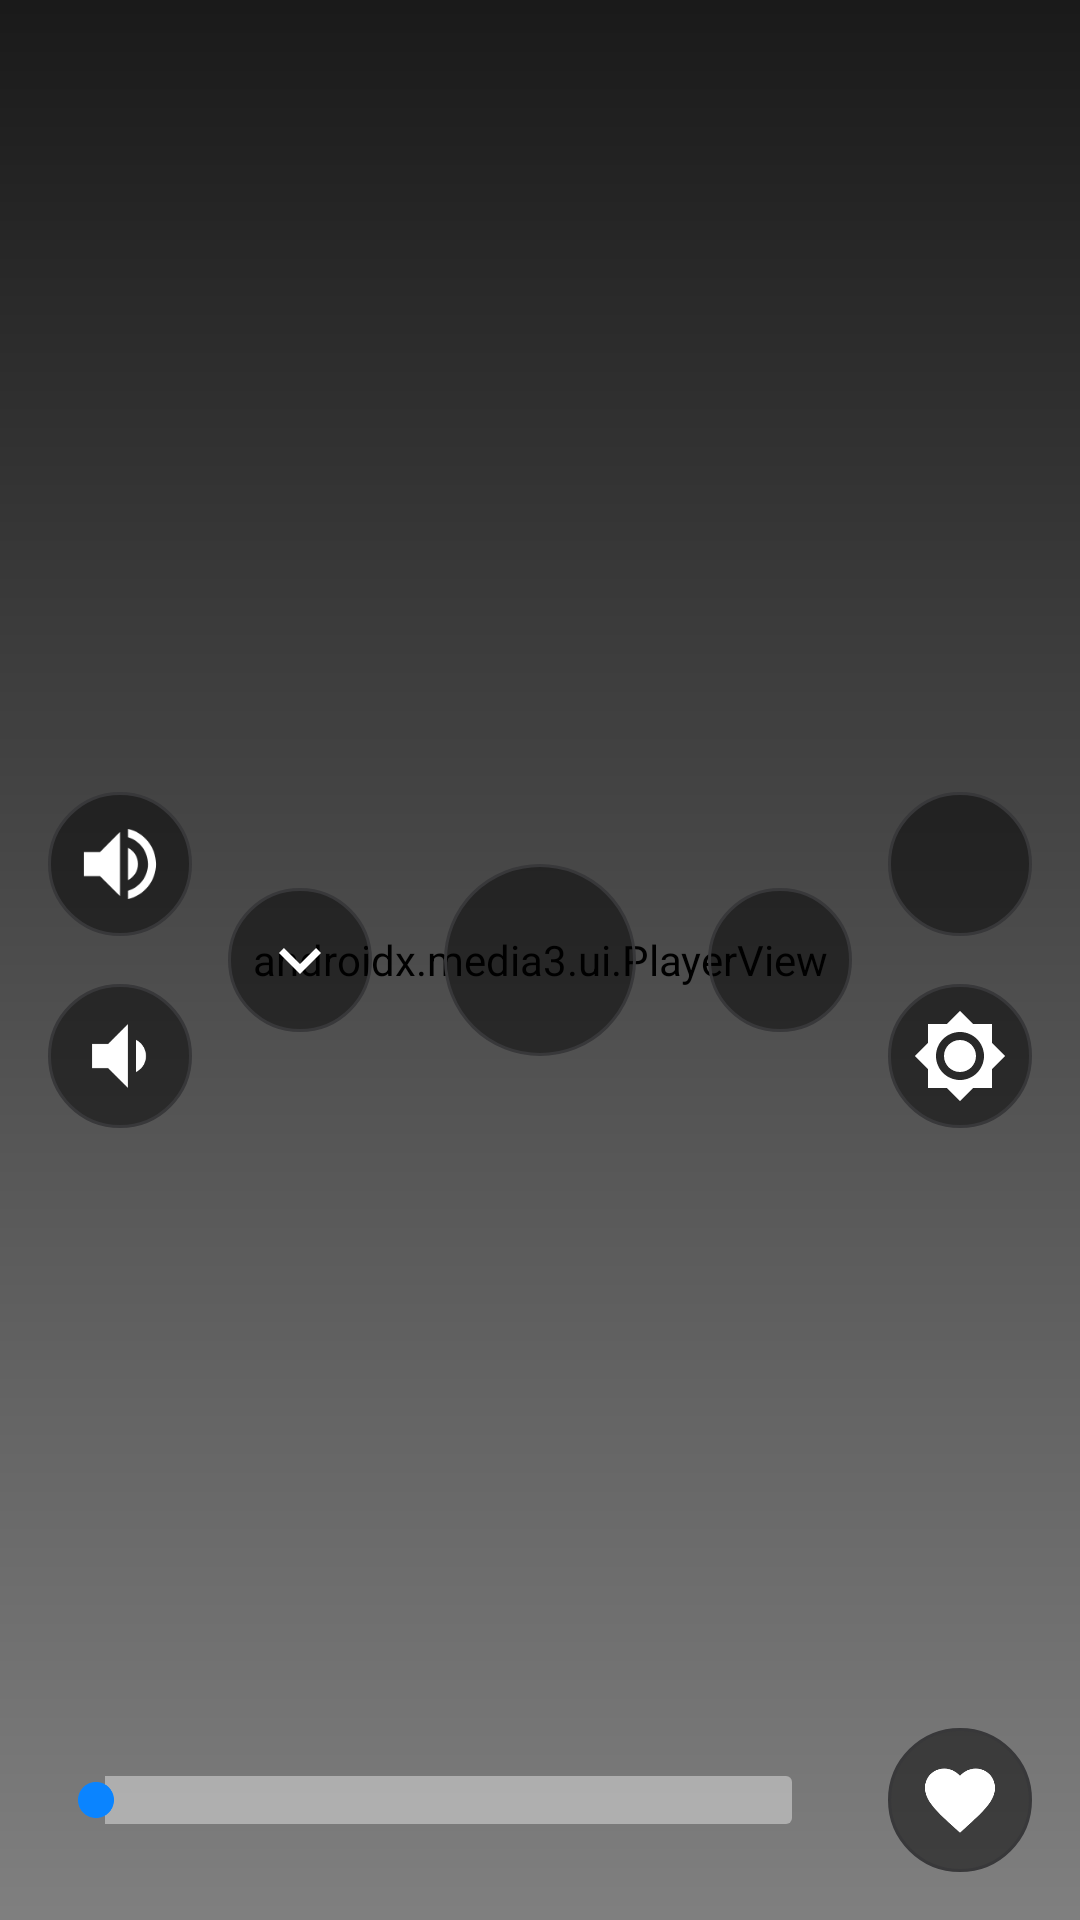

Icons on this 1080 x 1920 Android screen, each with the point to tap as point (x, y):
Brightness Down: point (960, 1056)
Favorite: point (960, 1800)
Volume Down: point (120, 1056)
Volume Up: point (120, 864)
